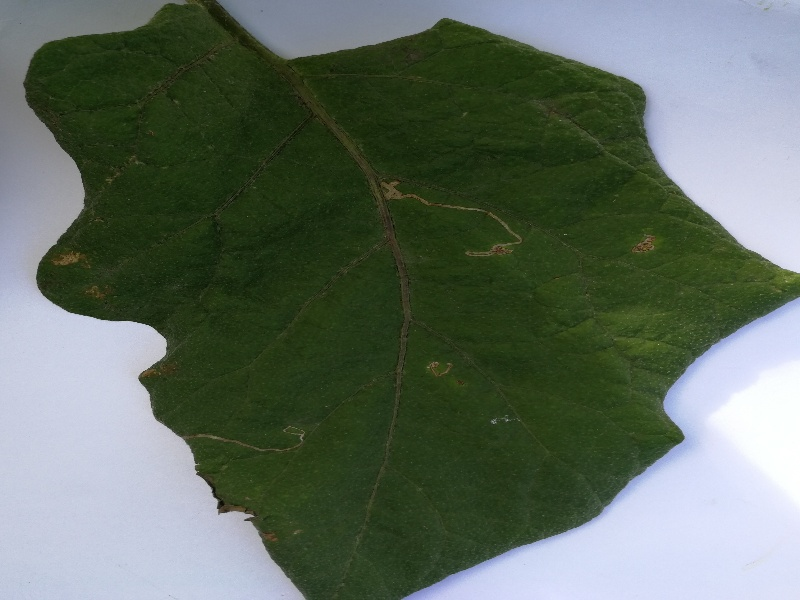leafminer: (365, 171, 532, 279), (176, 414, 319, 458), (620, 229, 668, 269), (415, 352, 468, 382)
